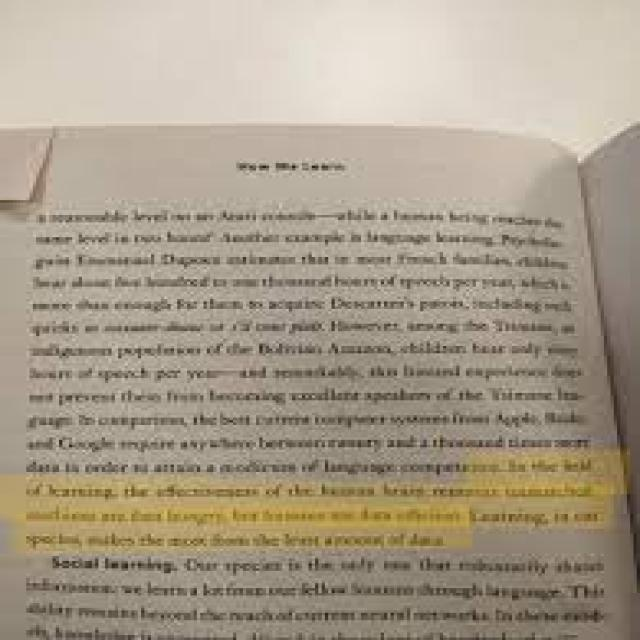book: (3, 126, 640, 628)
